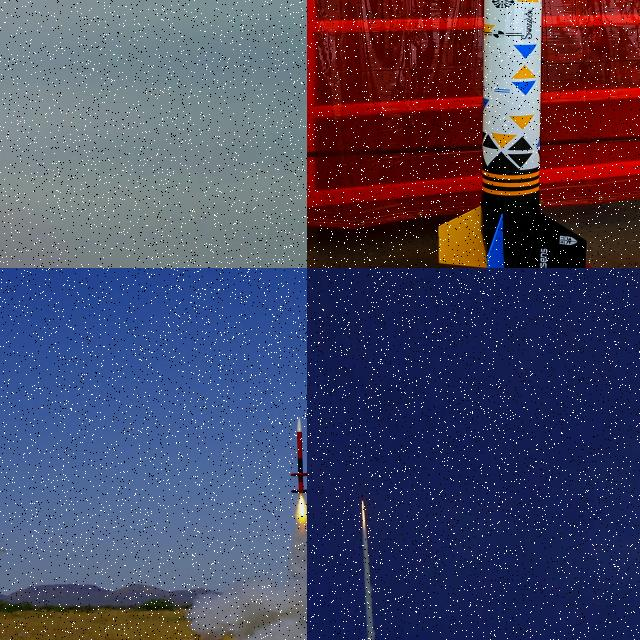Rocket: (438, 0, 587, 268), (290, 417, 307, 493), (361, 492, 363, 502)
